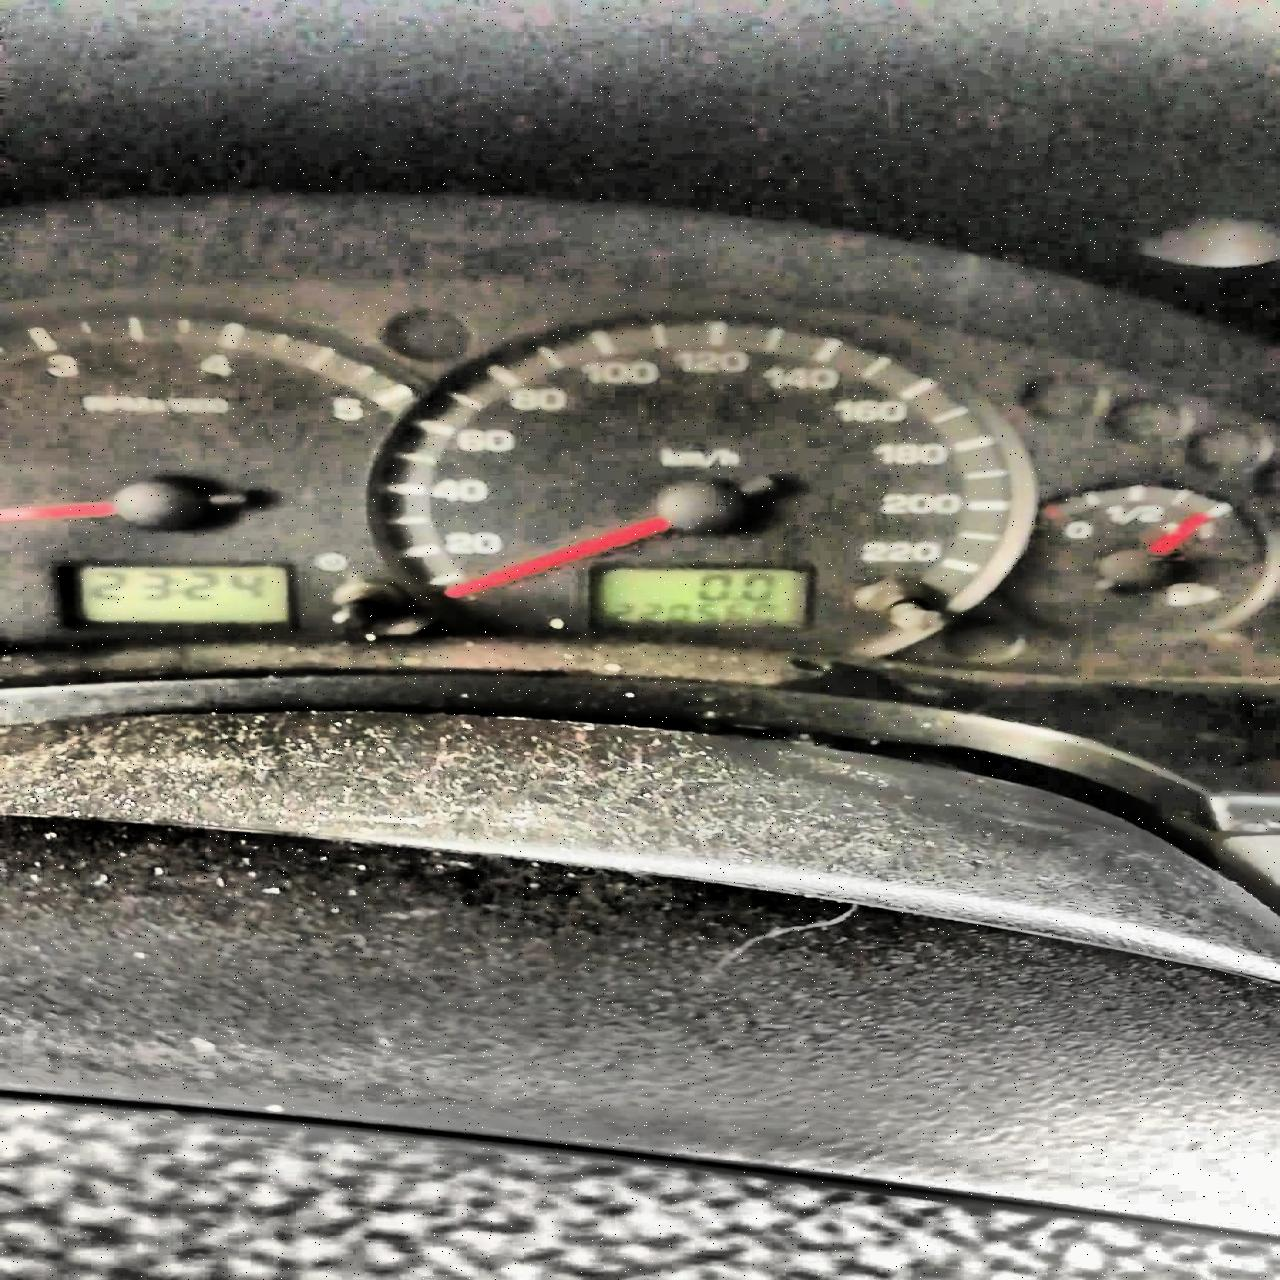0: (696, 572, 731, 600), (741, 572, 775, 600), (750, 601, 776, 622), (667, 602, 690, 621)
2: (638, 601, 661, 622), (611, 602, 633, 624)
5: (693, 601, 719, 622)
6: (722, 601, 749, 622)
odometer: (581, 563, 819, 631)
